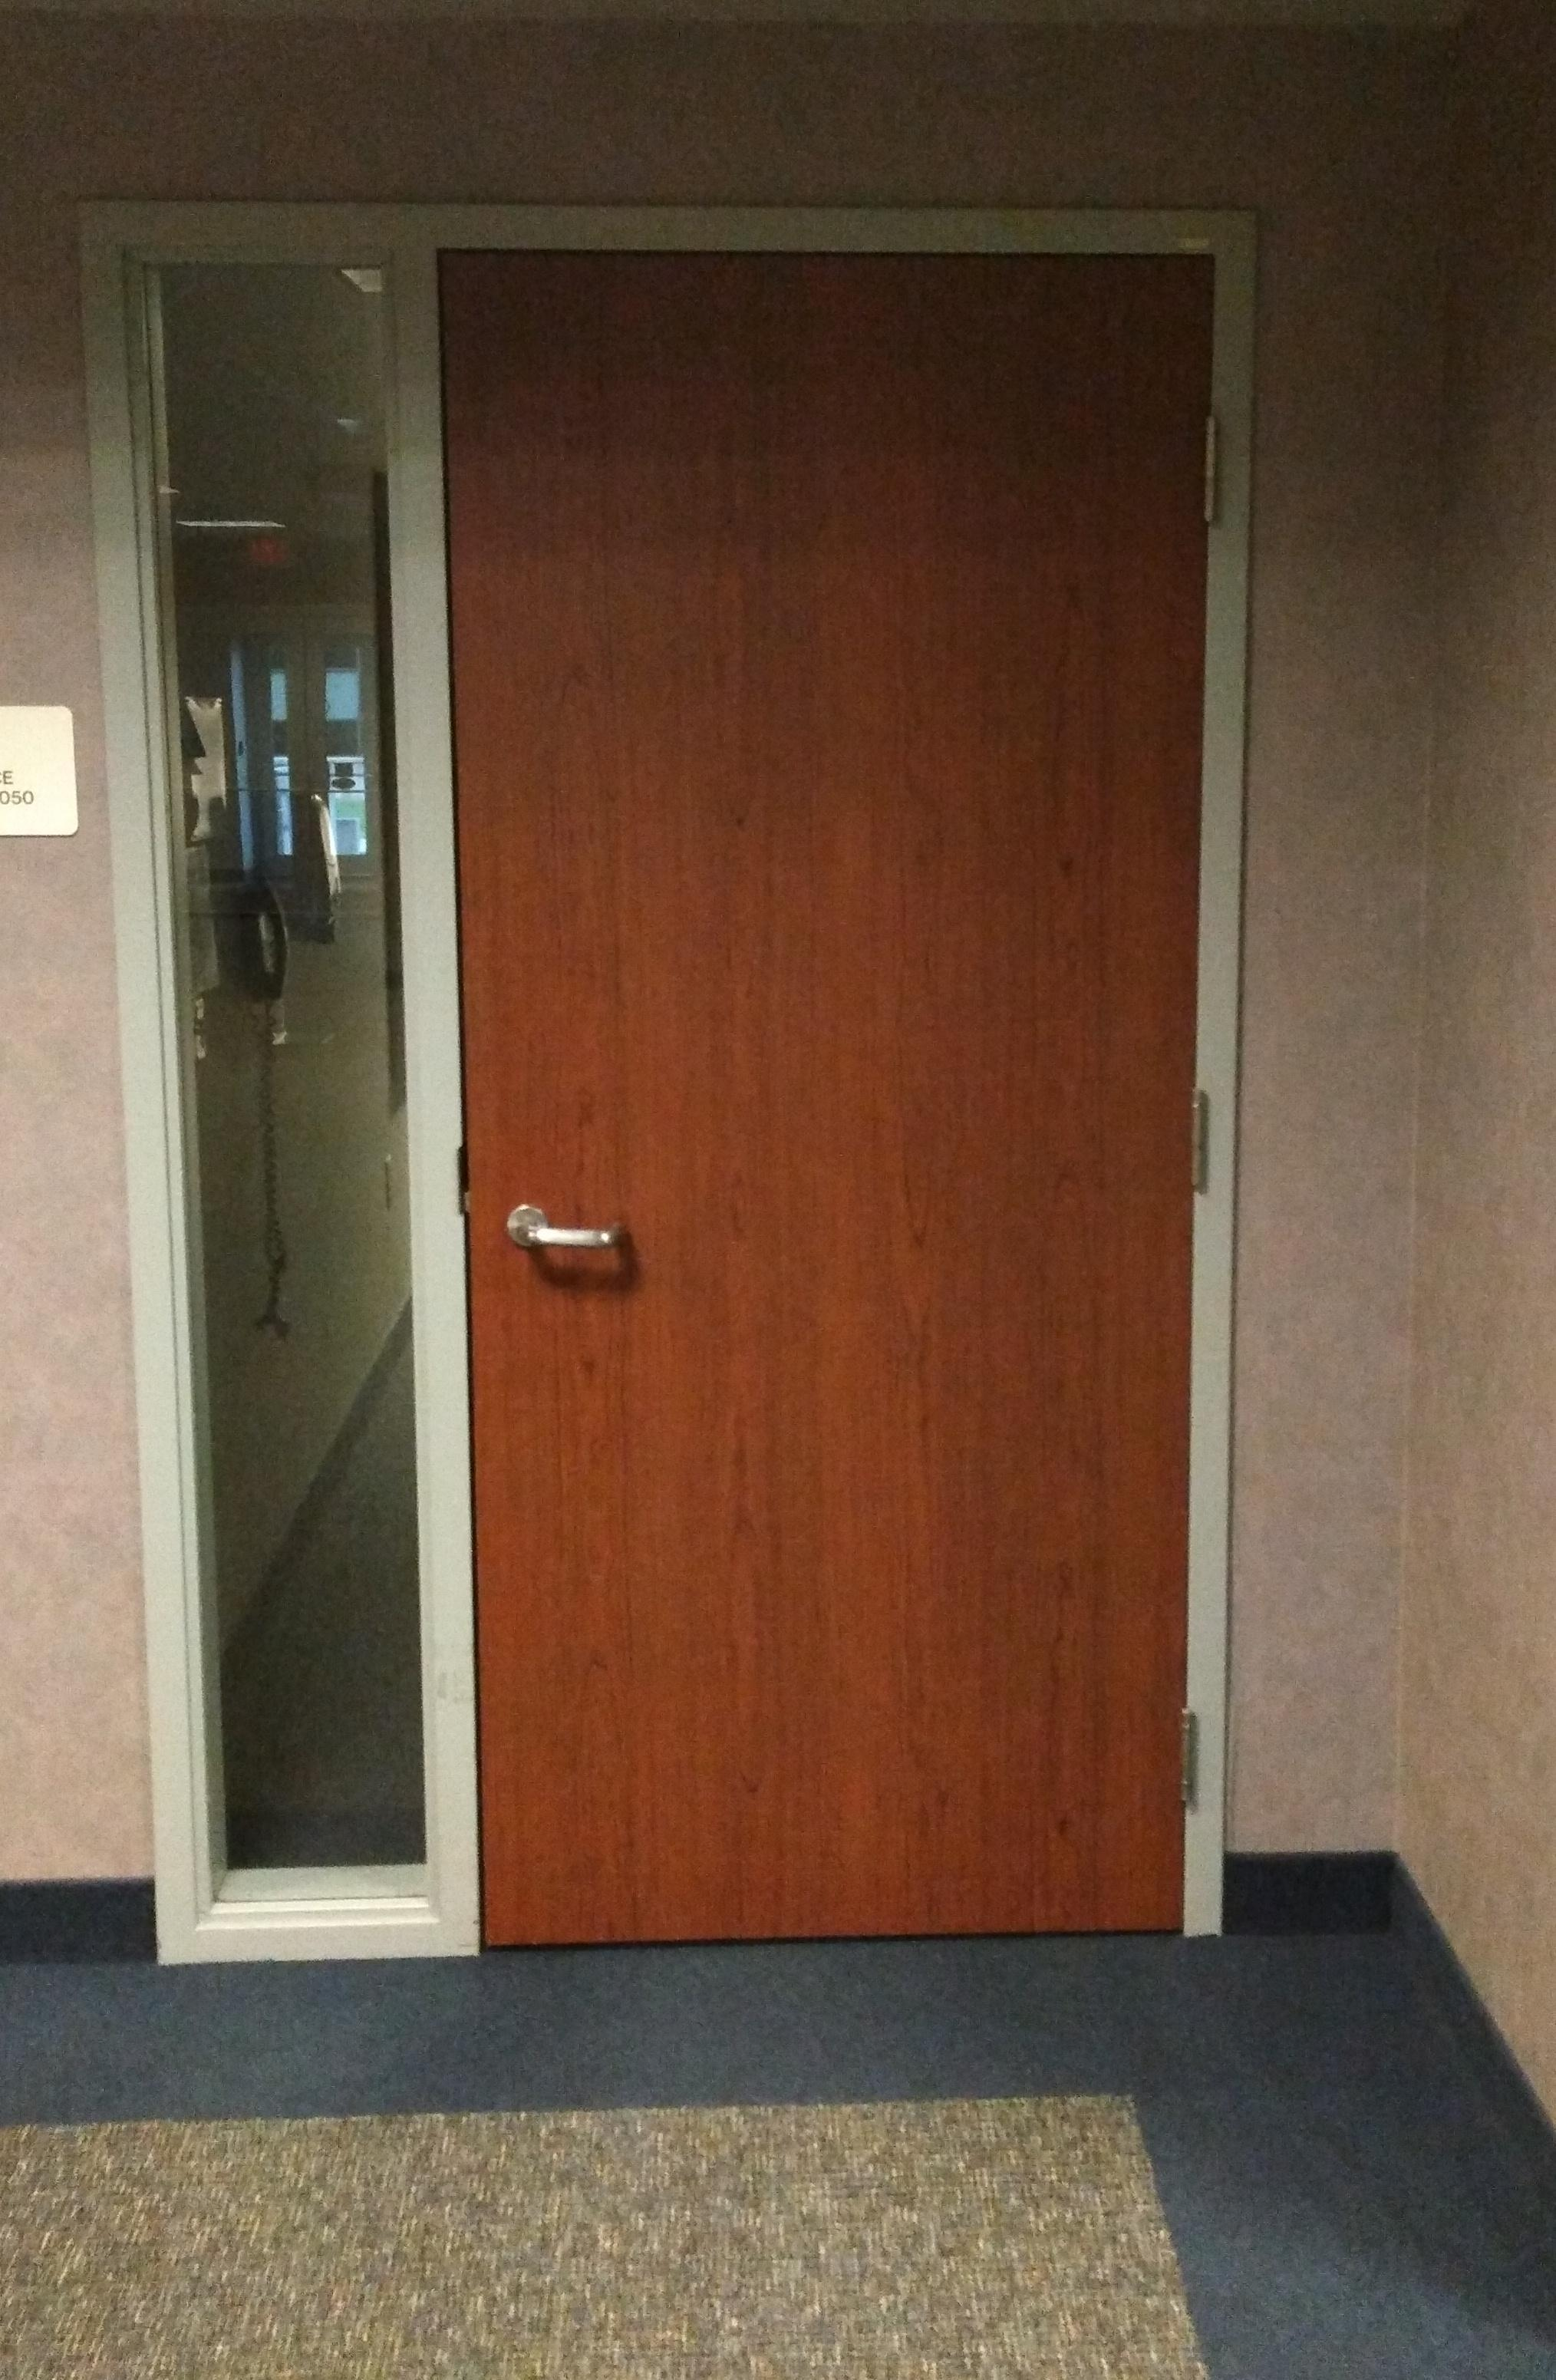door: (382, 207, 1249, 1960)
